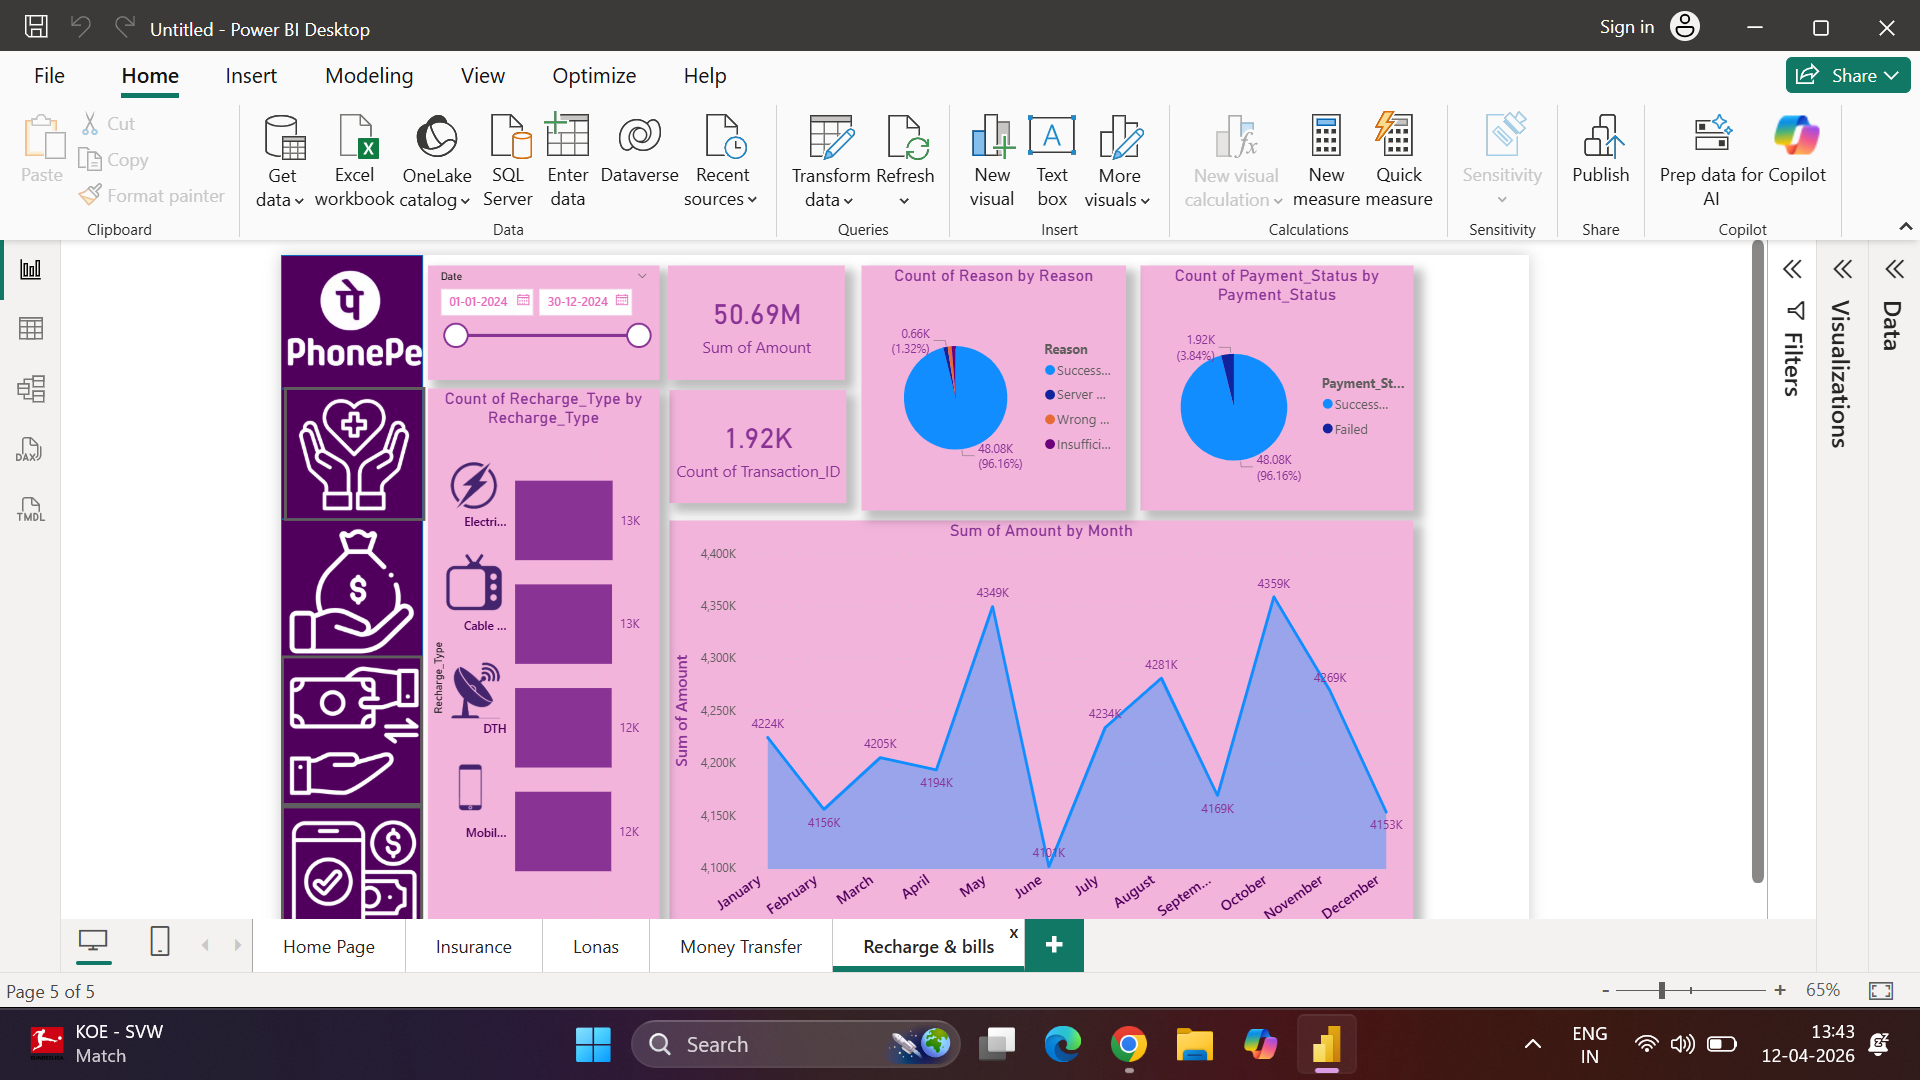

What the dashboard file says about the page in this screenshot:
{"tool":"powerbi","page":{"name":"Recharge & bills","canvas":[1280,720],"ordinal":4},"visuals":[{"type":"shape","box":[0,0,145.7,137.1],"z":0},{"type":"shape","box":[0,137.1,145.7,134.3],"z":1000},{"type":"shape","box":[0,271.4,145.7,141.4],"z":2000},{"type":"shape","box":[0,412.9,145.7,151.4],"z":3000},{"type":"shape","box":[0,564.3,145.7,155.7],"z":4000},{"type":"image","box":[0,0,150,137.1],"z":5000},{"type":"image","box":[0,272.9,150,141.4],"z":6000},{"type":"image","box":[0,412.9,150,151.4],"z":7000},{"type":"image","box":[0,564.3,150,155.7],"z":8000},{"type":"slicer","fields":{"Values":["Recharge_Bills.Date"]},"box":[150,10,237.1,117.1],"z":9000},{"type":"card","fields":{"Values":["Sum(Recharge_Bills.Amount)"]},"box":[397.1,10,181.4,117.1],"z":10000},{"type":"card","fields":{"Values":["Count(Recharge_Bills.Transaction_ID)"]},"box":[398.6,138.6,181.4,115.7],"z":11000},{"type":"pieChart","fields":{"Category":["Recharge_Bills.Payment_Status"],"Y":["CountNonNull(Recharge_Bills.Payment_Status)"]},"box":[881.4,10,280,251.4],"z":12000},{"type":"lineChart","fields":{"Category":["Recharge_Bills.Date.Variation.Date Hierarchy.Month"],"Y":["Sum(Recharge_Bills.Amount)"]},"box":[398.6,272.9,762.9,447.1],"z":13000},{"type":"clusteredBarChart","fields":{"Category":["Recharge_Bills.Recharge_Type"],"Y":["CountNonNull(Recharge_Bills.Recharge_Type)"]},"box":[150,137.1,237.1,582.9],"z":14000},{"type":"actionButton","box":[2.5,135,145,137.5],"z":15000},{"type":"actionButton","box":[0,410,145.7,154.3],"z":16000},{"type":"actionButton","box":[0,564.3,145.7,155.7],"z":17000},{"type":"image","box":[0,0,150,137.1],"z":18000},{"type":"pieChart","fields":{"Category":["Recharge_Bills.Reason"],"Y":["CountNonNull(Recharge_Bills.Reason)"]},"box":[595.7,10,271.4,251.4],"z":19000},{"type":"image","box":[0,137.5,150,135],"z":20000},{"type":"image","box":[127.6,298,140.8,72.4],"z":21000},{"type":"image","box":[158.2,210.2,78.6,51],"z":22000},{"type":"image","box":[162.2,414.3,74.5,61.2],"z":23000},{"type":"image","box":[162.2,520.4,67.3,52],"z":24000}]}

Visuals, with their boxes on the page's 1280x720 design canvas (x1, y1, x2, y2). These are canvas units, not pixel positions in the 1920x1080 screenshot, which may show the page scaled, cropped or inside an application window:
shape: region(0, 0, 146, 137)
shape: region(0, 137, 146, 271)
shape: region(0, 271, 146, 413)
shape: region(0, 413, 146, 564)
shape: region(0, 564, 146, 720)
image: region(0, 0, 150, 137)
image: region(0, 273, 150, 414)
image: region(0, 413, 150, 564)
image: region(0, 564, 150, 720)
slicer - Recharge_Bills.Date: region(150, 10, 387, 127)
card - Sum(Recharge_Bills.Amount): region(397, 10, 578, 127)
card - Count(Recharge_Bills.Transaction_ID): region(399, 139, 580, 254)
pieChart - Recharge_Bills.Payment_Status x CountNonNull(Recharge_Bills.Payment_Status): region(881, 10, 1161, 261)
lineChart - Recharge_Bills.Date.Variation.Date Hierarchy.Month x Sum(Recharge_Bills.Amount): region(399, 273, 1162, 720)
clusteredBarChart - Recharge_Bills.Recharge_Type x CountNonNull(Recharge_Bills.Recharge_Type): region(150, 137, 387, 720)
actionButton: region(2, 135, 148, 272)
actionButton: region(0, 410, 146, 564)
actionButton: region(0, 564, 146, 720)
image: region(0, 0, 150, 137)
pieChart - Recharge_Bills.Reason x CountNonNull(Recharge_Bills.Reason): region(596, 10, 867, 261)
image: region(0, 138, 150, 272)
image: region(128, 298, 268, 370)
image: region(158, 210, 237, 261)
image: region(162, 414, 237, 476)
image: region(162, 520, 230, 572)
